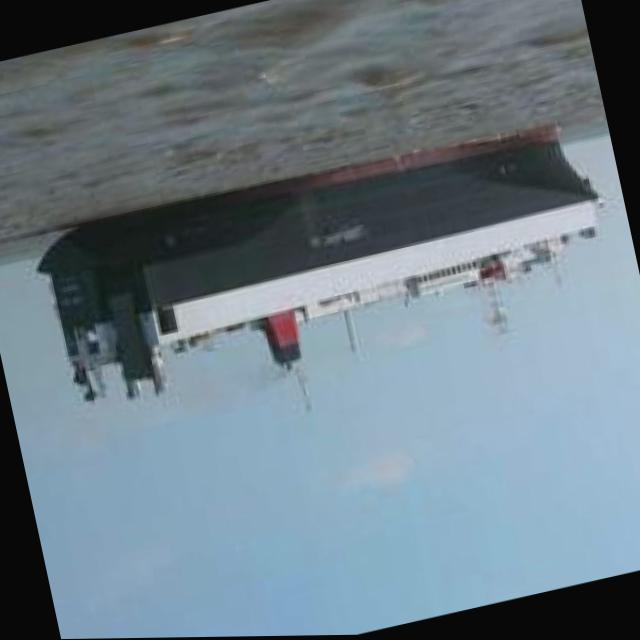ship2: (35, 124, 600, 413)
